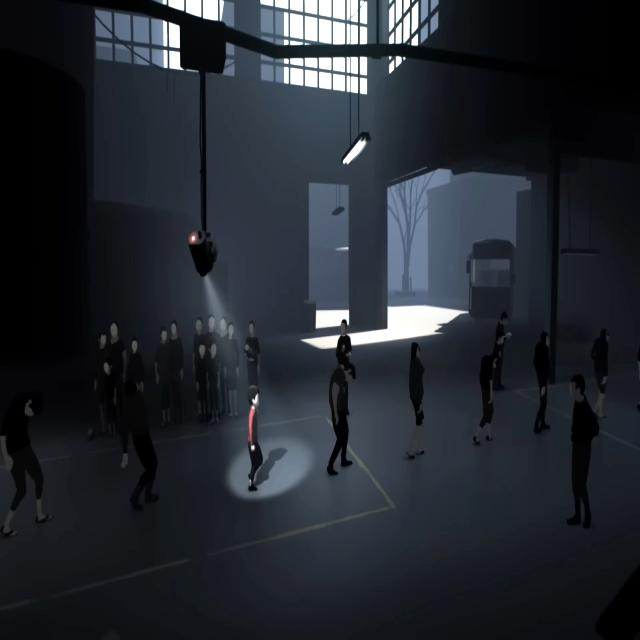boy: (248, 385, 264, 491)
human: (567, 373, 599, 529), (108, 320, 126, 437), (127, 337, 144, 437), (155, 326, 171, 427), (223, 322, 240, 417), (169, 320, 184, 425), (493, 311, 512, 391), (94, 331, 108, 434), (207, 342, 220, 424), (244, 320, 260, 385), (104, 358, 116, 437), (192, 316, 205, 377), (196, 342, 206, 419), (336, 319, 352, 363), (206, 314, 217, 341), (217, 314, 227, 343)
zombie: (0, 390, 54, 537), (120, 379, 160, 512), (327, 363, 356, 476), (473, 352, 498, 446), (406, 342, 425, 459), (534, 331, 550, 433), (591, 328, 609, 418), (636, 326, 640, 412)
